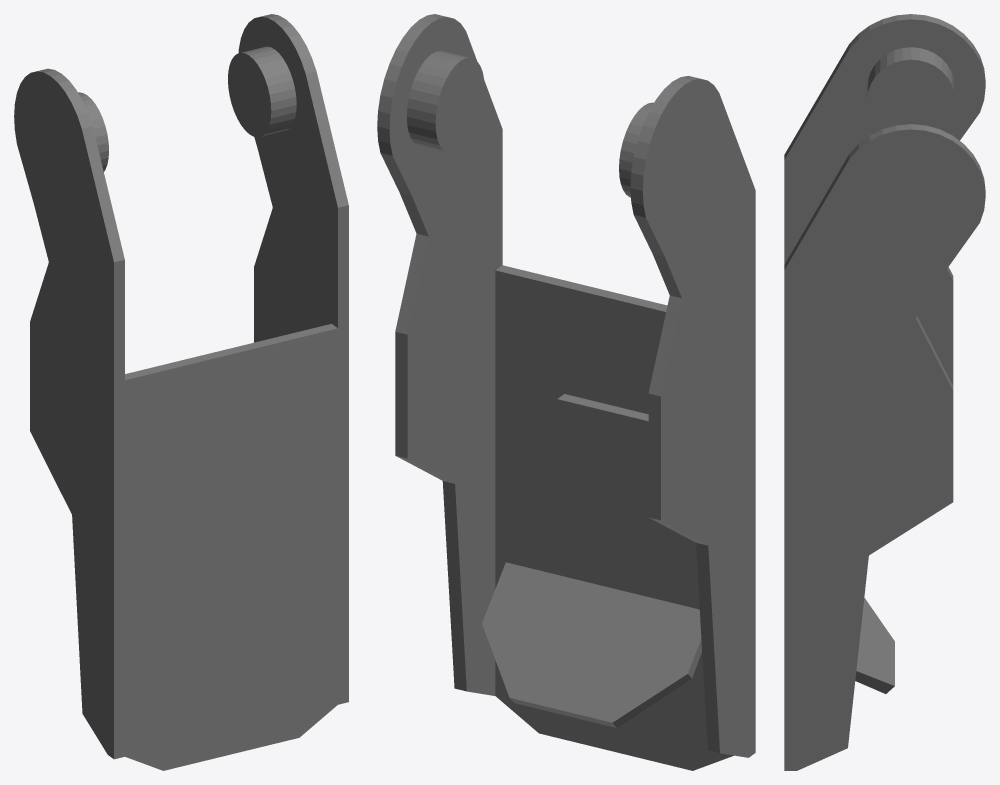
Rendered from hand.dae.
3 views of the same model, side by side, from view 1: azimuth 30°, elevation 25°; view 2: azimuth 150°, elevation 25°; view 3: azimuth 270°, elevation 25° (orthographic). The views are drawn at different scales.
Parts seen in each view (by area): view 1: hand; view 2: hand; view 3: hand.
Part boxes in pixels (box(x1,y1,x2,y2)): hand: box(14, 14, 348, 770); hand: box(377, 14, 755, 770); hand: box(784, 14, 985, 770).
Bounding box in the file's own units: 0.0323 × 0.0238 × 0.0868.
Materials: 1 (1 with a texture image).
